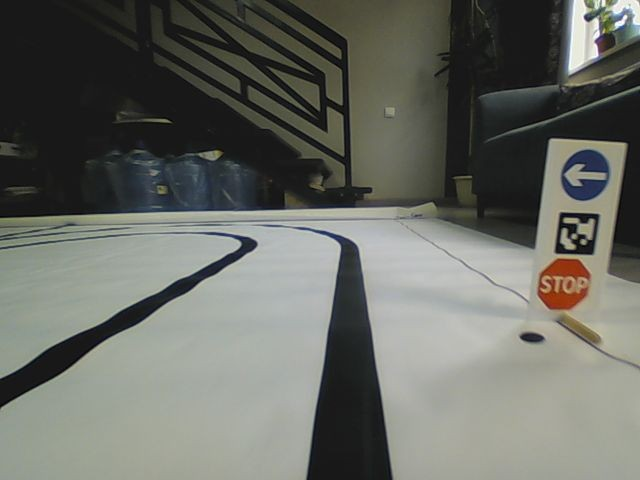Stop: (537, 259, 591, 311)
